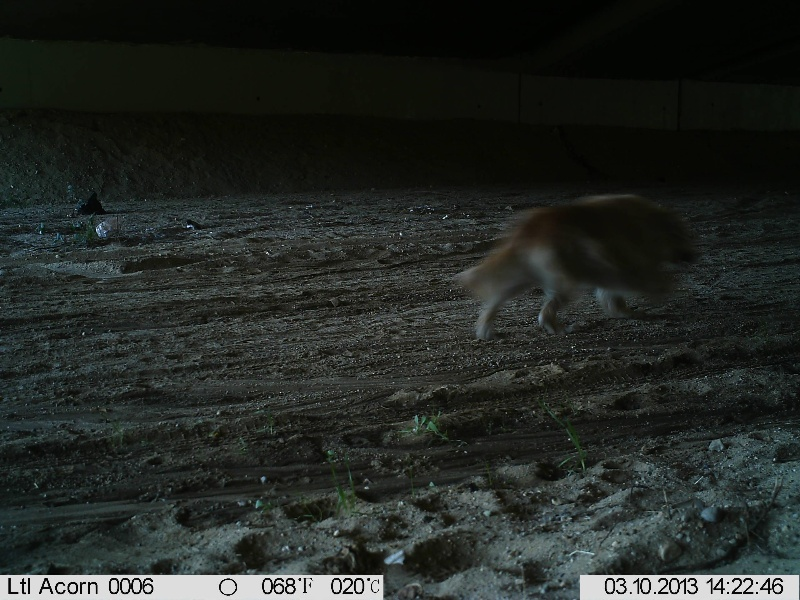dog: (461, 187, 711, 350)
